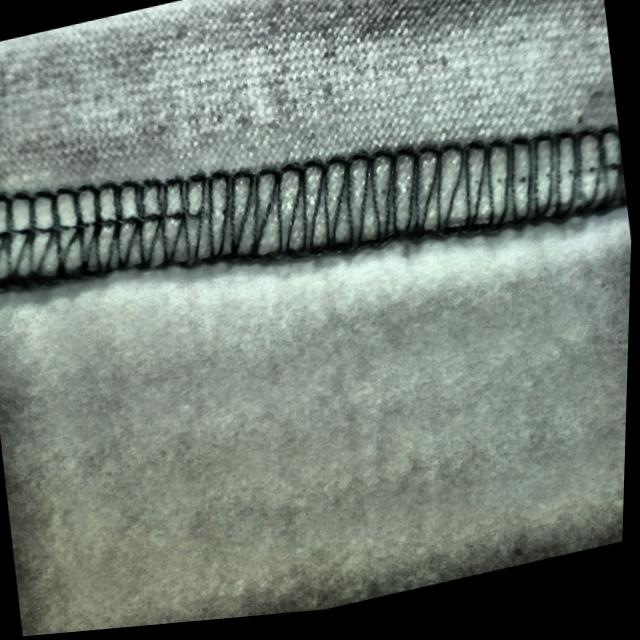Stitch: (0, 102, 391, 340)
